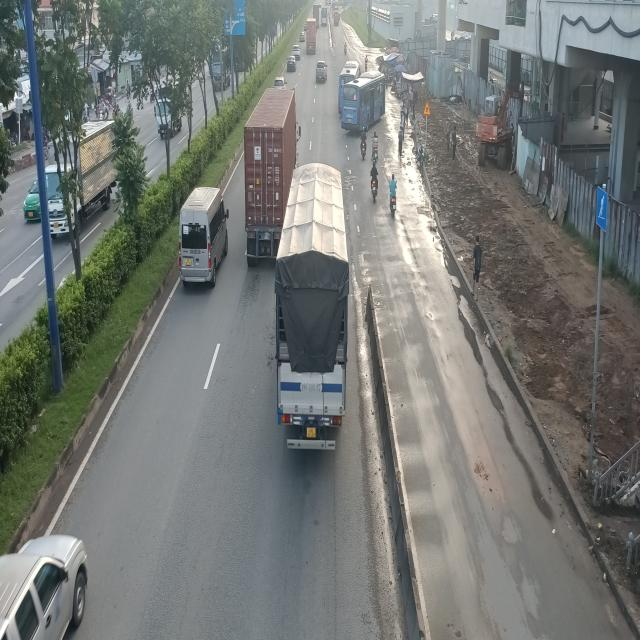coach: (342, 71, 387, 130)
container: (241, 87, 298, 264)
truck: (271, 160, 349, 446)
van: (180, 188, 230, 290)
